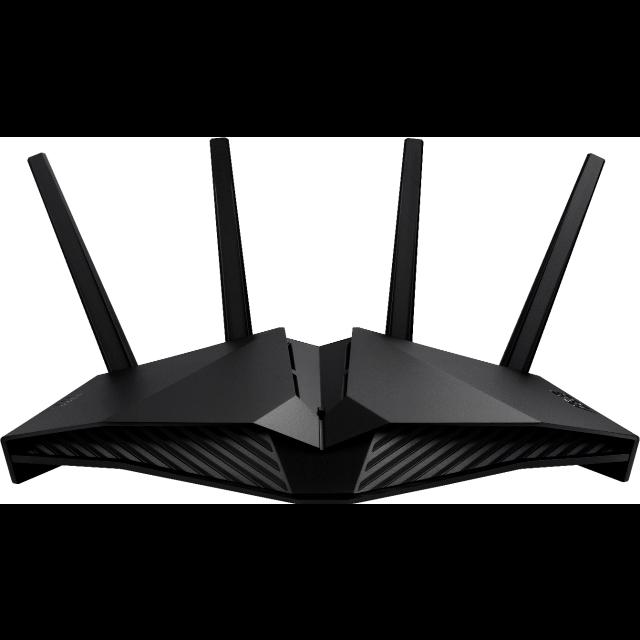Router: (0, 136, 640, 503)
